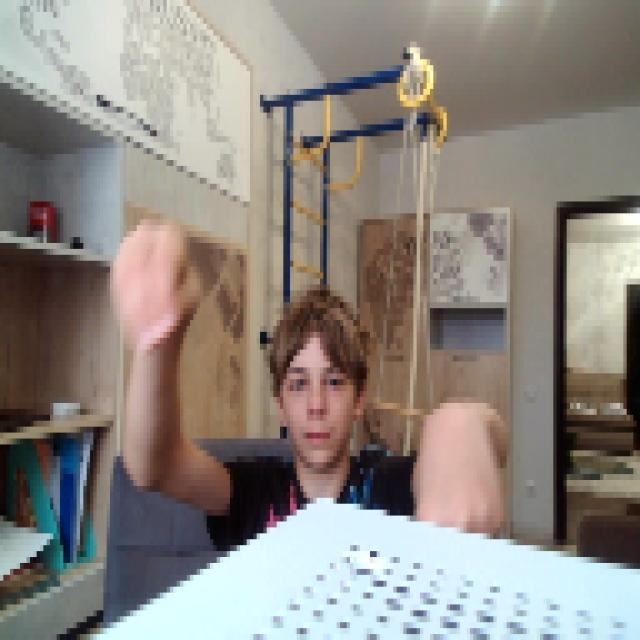left_click: (107, 208, 200, 350)
